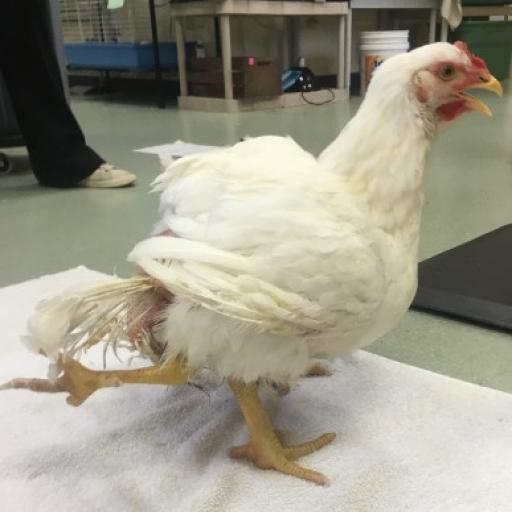healthy: (420, 40, 494, 114)
